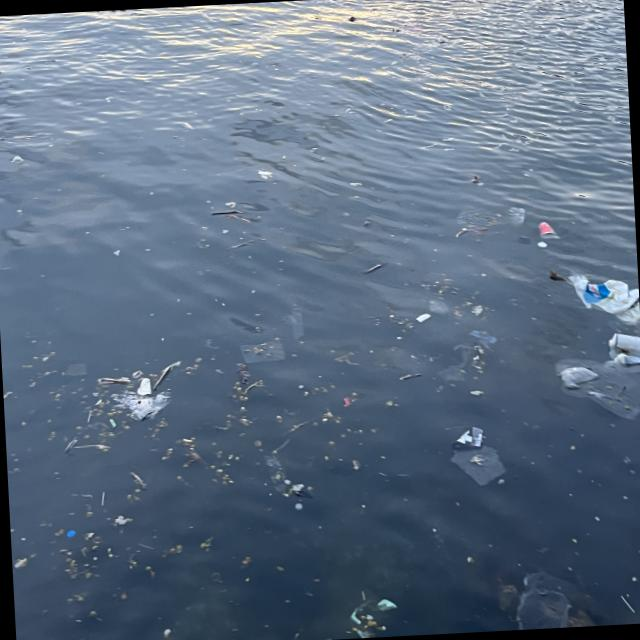foam: (138, 378, 153, 397), (416, 313, 433, 324), (257, 169, 274, 180)
plastic bag: (551, 354, 640, 422), (551, 273, 640, 322)
